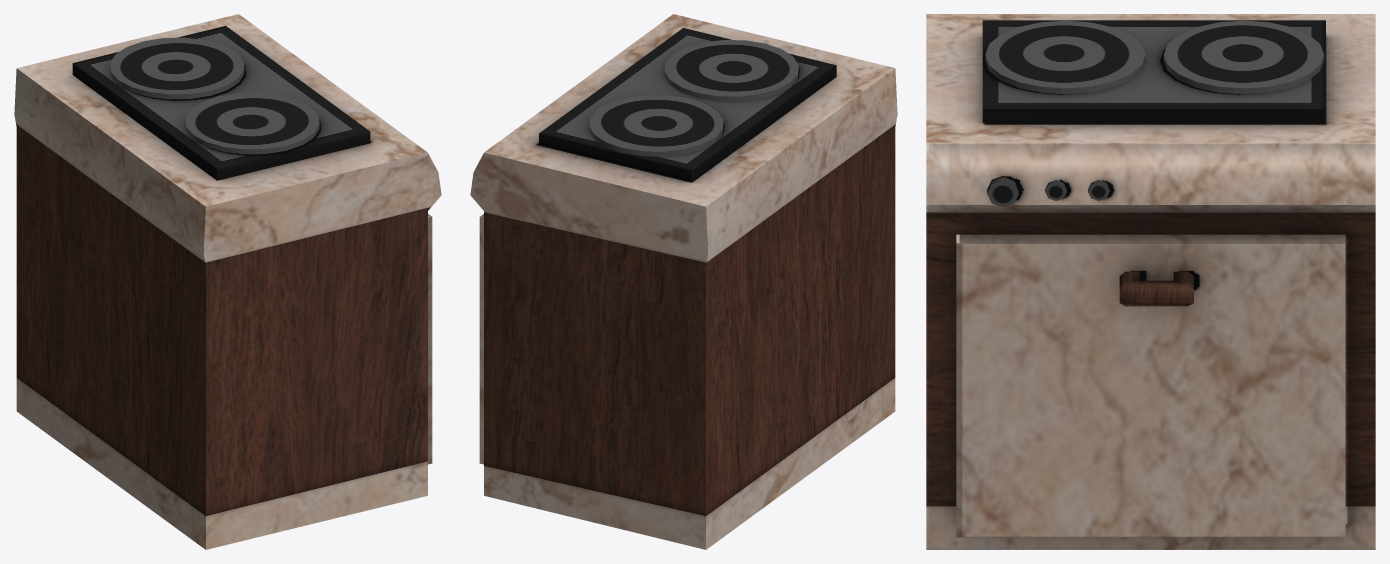
Rendered from m_kitchen_surface_2.fbx.
3 renders of one model, left to right at view 1: azimuth 30°, elevation 25°; view 2: azimuth 150°, elevation 25°; view 3: azimuth 270°, elevation 25°, orthographic. The views are drawn at different scales.
Visible parts, largest first — view 1: m_kitchen_surface_2; view 2: m_kitchen_surface_2; view 3: m_kitchen_surface_2.
Part boxes in pixels (bbox=[...]): m_kitchen_surface_2: bbox=[14, 14, 441, 549]; m_kitchen_surface_2: bbox=[470, 14, 897, 549]; m_kitchen_surface_2: bbox=[926, 14, 1375, 549].
Size of the model in its own units: 81.57 by 105 by 100.
